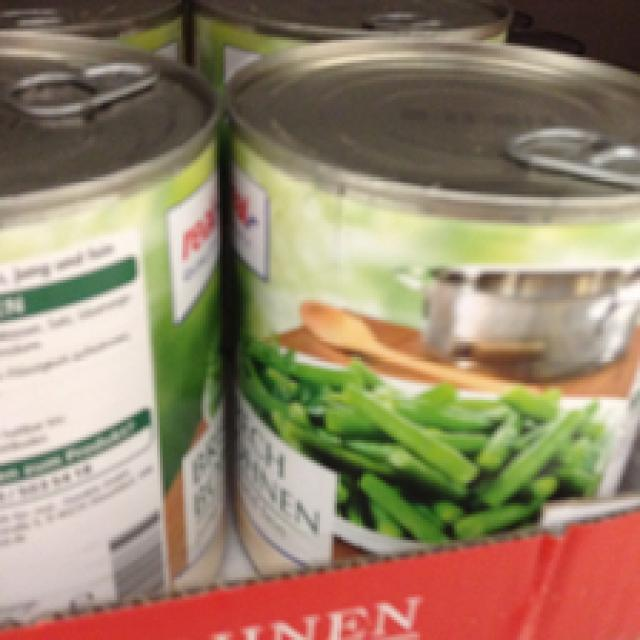groceries: (229, 34, 637, 580), (0, 37, 217, 612)
